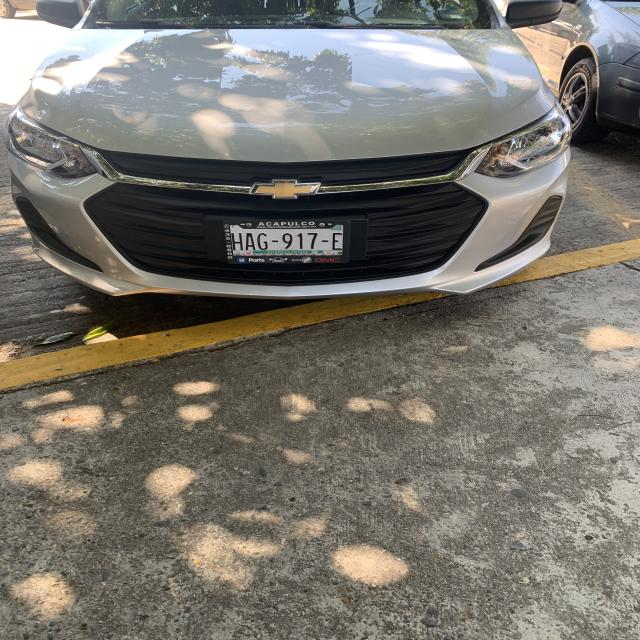placa: (229, 229, 345, 253)
